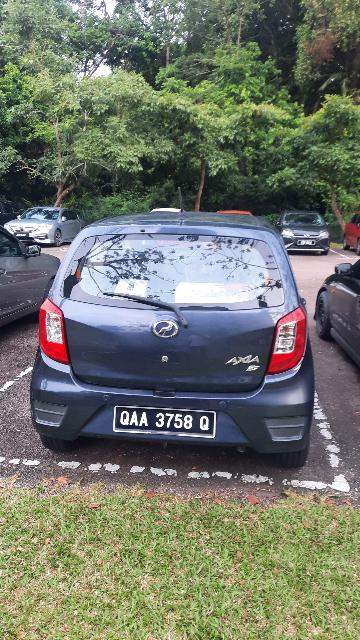License_Plate: (108, 397, 222, 439)
car: (35, 206, 315, 471)
